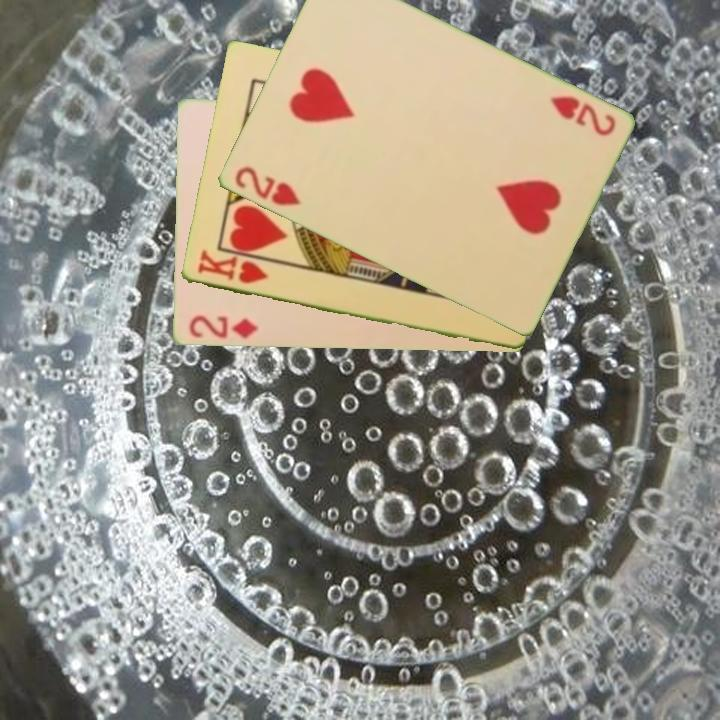2d: (185, 312, 261, 342)
2h: (230, 163, 304, 209), (546, 92, 618, 139)
Kh: (194, 247, 271, 287)
